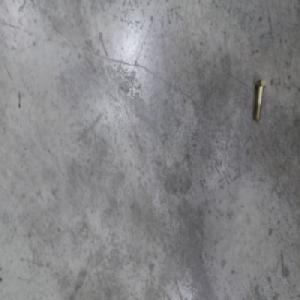Bolt: (252, 78, 265, 121)
